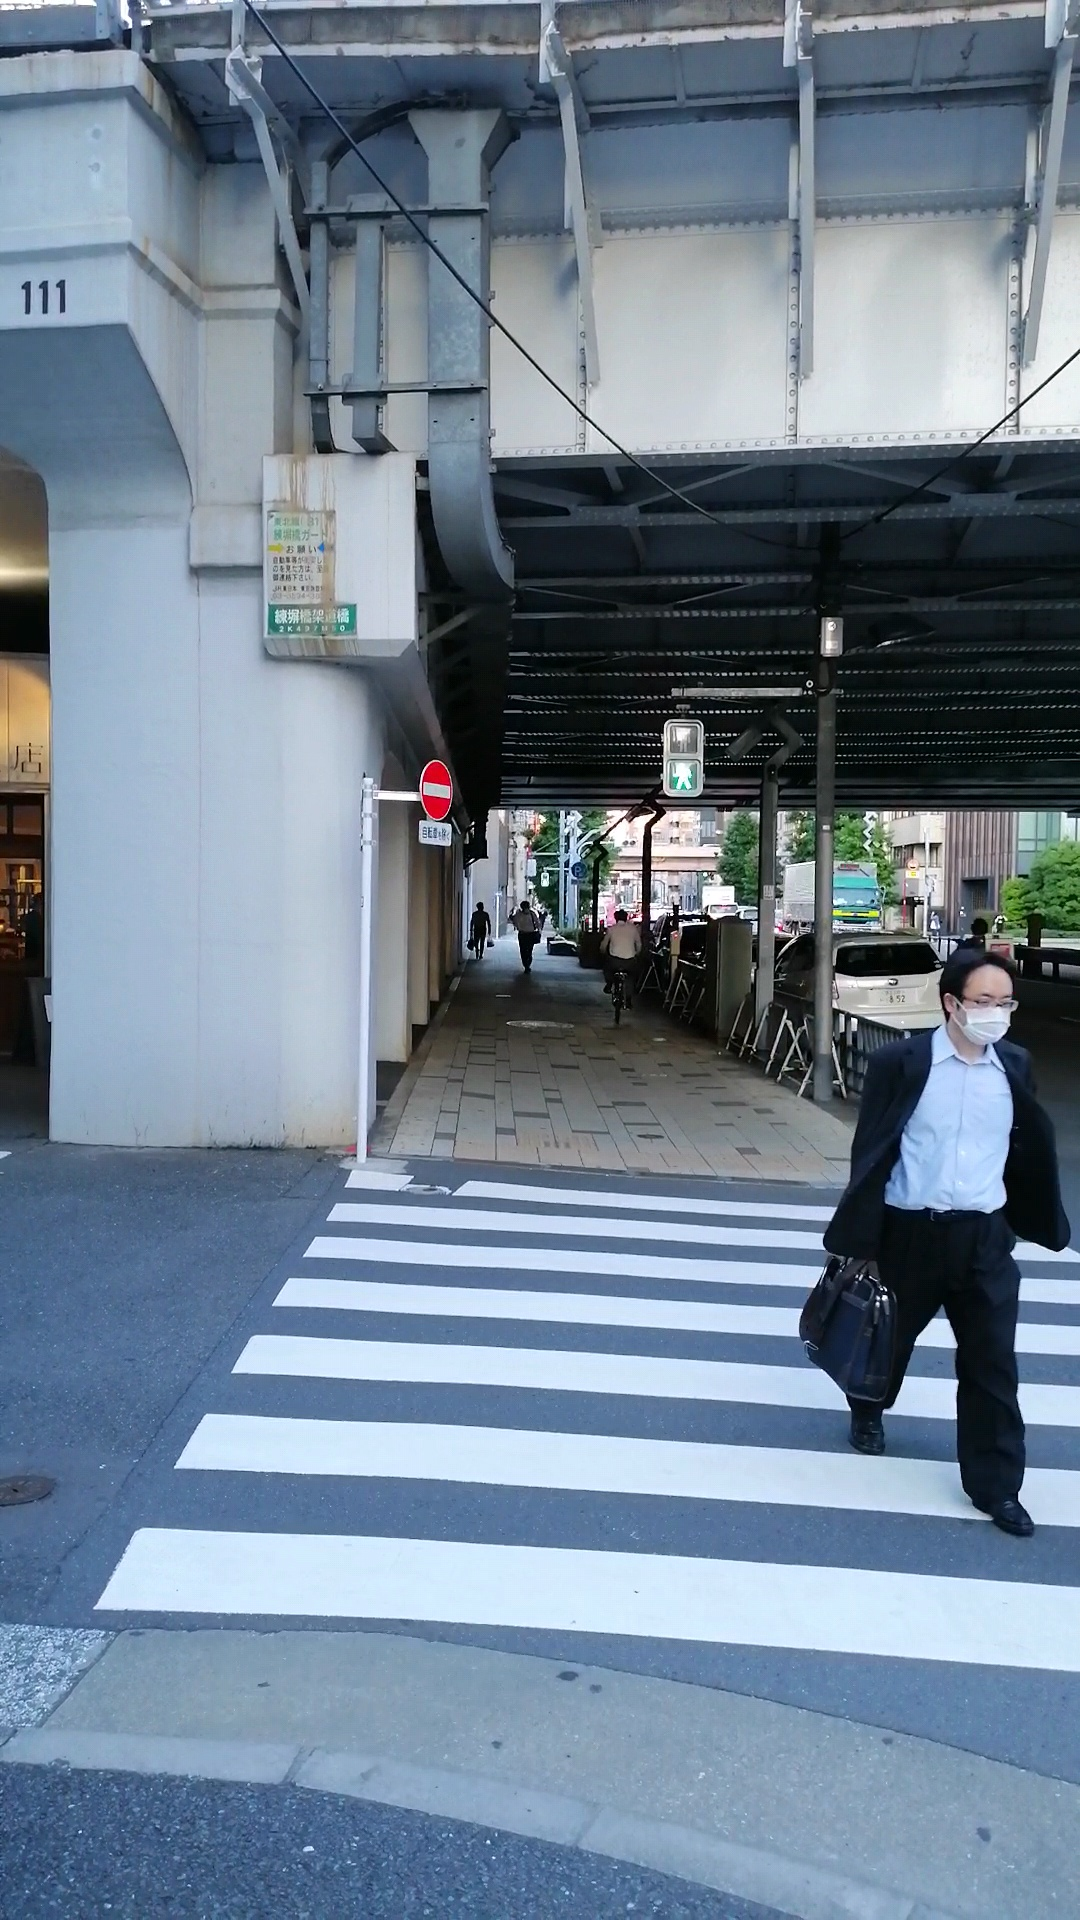green: (661, 717, 703, 799)
